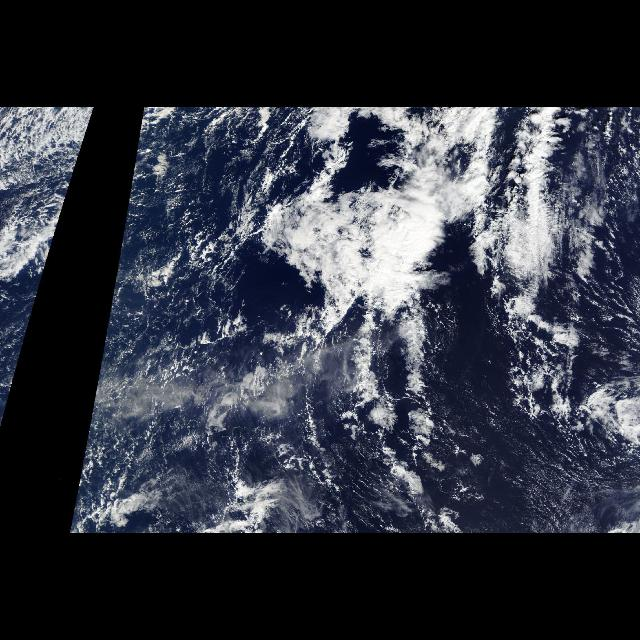Gravel: (92, 108, 464, 492)
Sugar: (457, 423, 639, 533)
